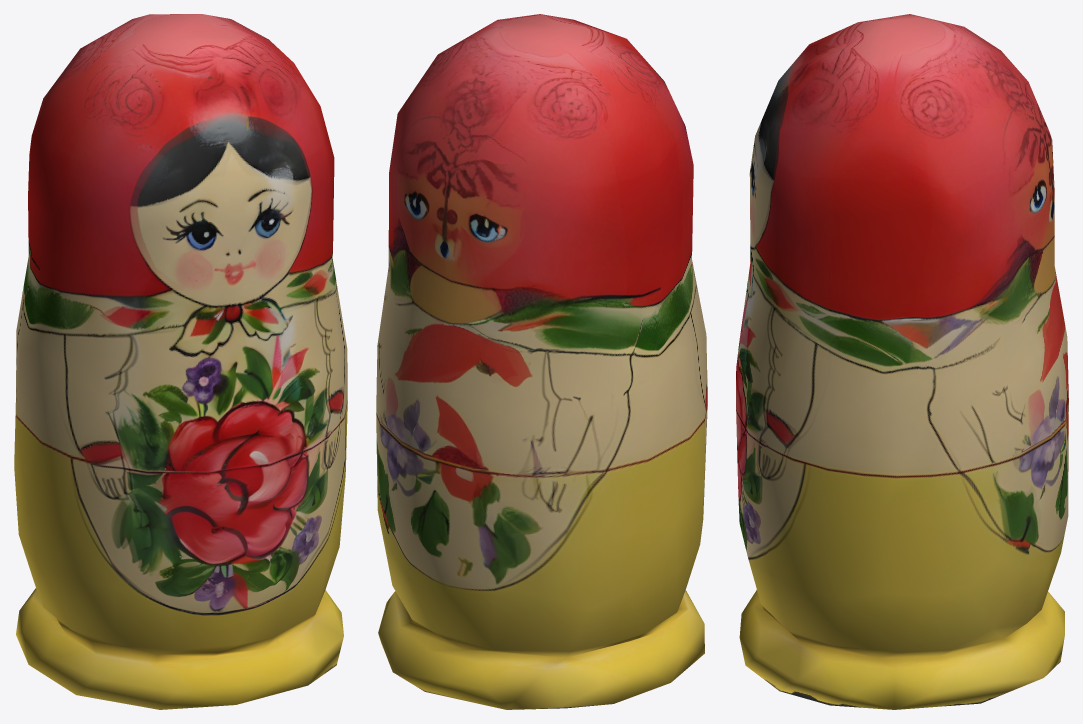
Rendered from babushka.glb.
3 renders of one model, left to right at view 1: azimuth 30°, elevation 25°; view 2: azimuth 150°, elevation 25°; view 3: azimuth 270°, elevation 25°, orthographic.
Visible parts, largest first — view 1: tripo_node_06b59123-362b-4209-91de-c5262605770c.001; view 2: tripo_node_06b59123-362b-4209-91de-c5262605770c.001; view 3: tripo_node_06b59123-362b-4209-91de-c5262605770c.001.
Part boxes in pixels (<box>): tripo_node_06b59123-362b-4209-91de-c5262605770c.001: <box>14,14,347,709</box>; tripo_node_06b59123-362b-4209-91de-c5262605770c.001: <box>376,14,707,709</box>; tripo_node_06b59123-362b-4209-91de-c5262605770c.001: <box>736,14,1068,709</box>.
Bounding box in the file's own units: 0.4867 × 1 × 0.486.
1 material, 1 textured.
